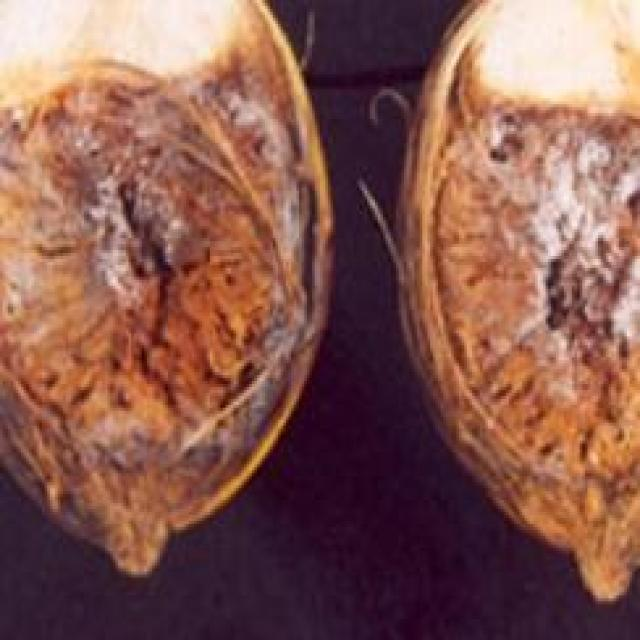damaged: (388, 0, 637, 592)
